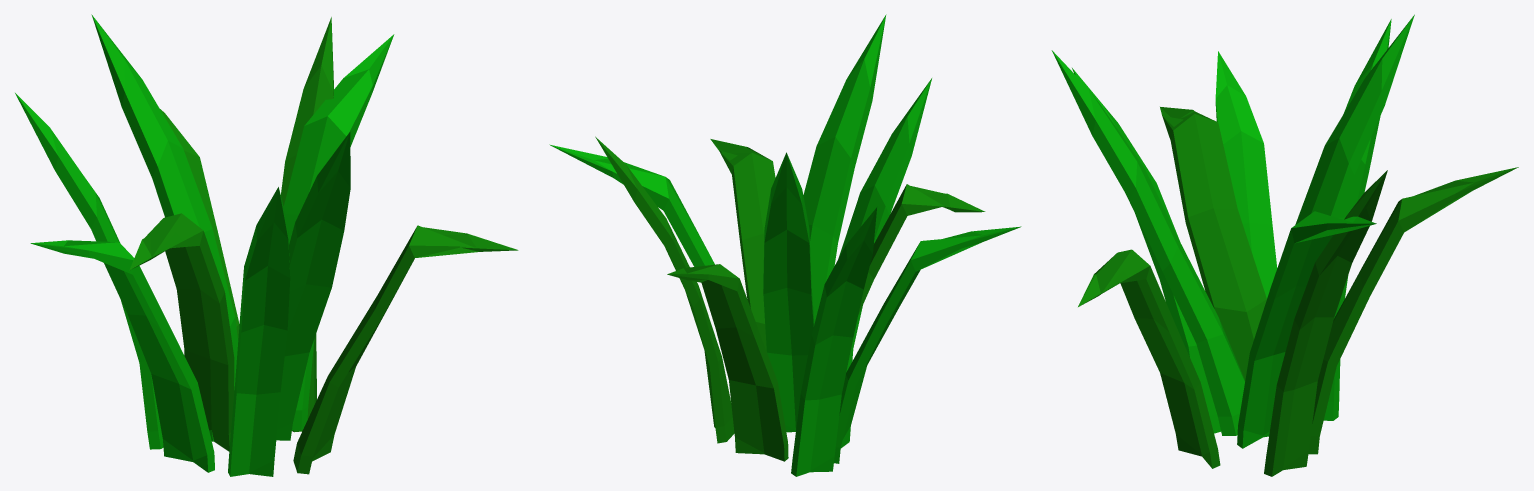
Rendered from trawa kępka.glb.
The picture shows the model from 3 angles, left to right: view 1: azimuth 30°, elevation 25°; view 2: azimuth 150°, elevation 25°; view 3: azimuth 270°, elevation 25°; orthographic projection. The views are drawn at different scales.
Visible parts, largest first — view 1: Cube; view 2: Cube; view 3: Cube.
Boxes of the visible parts, box(x1,y1,x2,y2) form: Cube: box(15, 14, 518, 476); Cube: box(549, 14, 1021, 476); Cube: box(1051, 14, 1518, 476).
Bounding box in the file's own units: 0.1262 × 0.1072 × 0.1167.
